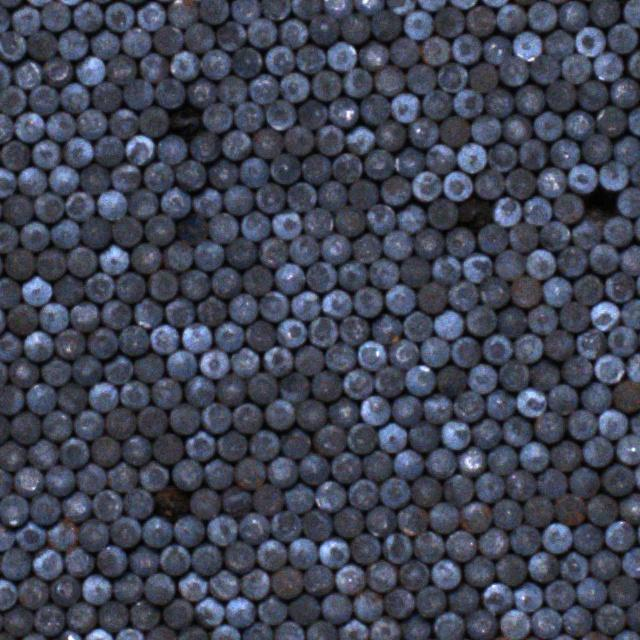tool: (388, 192, 436, 238), (337, 113, 384, 157), (387, 136, 430, 180), (170, 208, 218, 246), (602, 122, 640, 165), (613, 232, 640, 280), (494, 552, 528, 587), (351, 586, 384, 622), (126, 540, 159, 576), (44, 518, 80, 551), (142, 572, 176, 605), (312, 423, 346, 456), (299, 150, 332, 184), (446, 581, 479, 614), (365, 559, 398, 592), (540, 521, 573, 554), (243, 318, 276, 351), (527, 357, 560, 390), (574, 326, 607, 359), (128, 598, 162, 630), (190, 542, 222, 576), (314, 479, 346, 513), (266, 454, 298, 488), (18, 219, 50, 253), (350, 230, 382, 264), (92, 132, 124, 166), (0, 604, 33, 636), (34, 603, 66, 636), (18, 576, 50, 609), (270, 566, 303, 598), (302, 563, 334, 596), (94, 545, 126, 578), (223, 539, 255, 572), (445, 530, 478, 562), (396, 502, 429, 534), (28, 492, 61, 524), (220, 484, 253, 516), (346, 478, 379, 510), (441, 474, 474, 506), (497, 608, 530, 640), (460, 500, 493, 532), (585, 494, 618, 526), (535, 468, 568, 500), (346, 422, 379, 454), (8, 411, 41, 443), (294, 398, 326, 431), (326, 395, 359, 427), (183, 374, 216, 406), (278, 370, 310, 403), (393, 449, 425, 482), (550, 439, 582, 472), (598, 408, 630, 441), (434, 365, 467, 397), (560, 354, 593, 386), (604, 271, 636, 304), (1, 192, 33, 225), (12, 110, 45, 142), (78, 161, 110, 194), (535, 165, 567, 198), (501, 112, 534, 144), (372, 64, 405, 96), (478, 526, 509, 560), (578, 382, 612, 413), (54, 272, 85, 306), (79, 214, 110, 248), (595, 104, 626, 138), (32, 546, 62, 581), (224, 595, 256, 627), (80, 572, 112, 604), (332, 562, 364, 594), (254, 538, 286, 570), (286, 537, 318, 569), (14, 519, 46, 551), (236, 511, 268, 543), (300, 508, 332, 540), (334, 506, 366, 538), (606, 574, 638, 606), (463, 555, 495, 587), (557, 550, 589, 582), (249, 428, 281, 460), (136, 406, 168, 438), (150, 377, 182, 409), (245, 372, 277, 404), (310, 369, 342, 401), (359, 394, 391, 426), (454, 390, 486, 422), (594, 352, 626, 384), (449, 336, 481, 368), (464, 304, 496, 336), (589, 299, 621, 331), (225, 236, 257, 268), (334, 204, 366, 236), (317, 177, 349, 209), (251, 126, 283, 158), (56, 27, 88, 59), (230, 46, 262, 78), (415, 584, 446, 617), (413, 530, 444, 563), (366, 504, 397, 537), (60, 489, 91, 522), (74, 462, 105, 495), (329, 452, 362, 483), (213, 372, 244, 405), (164, 350, 197, 381), (370, 312, 403, 343), (384, 283, 417, 314), (3, 247, 36, 278), (413, 227, 446, 258), (123, 133, 156, 164), (25, 29, 58, 60), (9, 2, 40, 35), (151, 23, 182, 56), (182, 22, 215, 53), (102, 1, 135, 32), (287, 594, 321, 624), (384, 586, 414, 620), (235, 455, 265, 489), (56, 380, 86, 414), (385, 338, 419, 368), (496, 303, 526, 337), (0, 548, 31, 580), (321, 592, 352, 624), (399, 559, 431, 590), (430, 558, 462, 589), (350, 532, 381, 564), (268, 510, 300, 541), (120, 486, 151, 518), (188, 487, 220, 518), (410, 474, 441, 506), (560, 604, 592, 635), (512, 580, 544, 611), (572, 522, 603, 554), (553, 494, 585, 525), (568, 467, 599, 499), (601, 464, 633, 495), (171, 459, 203, 490), (120, 434, 152, 465), (184, 430, 216, 461), (104, 407, 135, 439), (168, 403, 200, 434), (201, 402, 232, 434), (39, 355, 71, 386), (102, 353, 133, 385), (22, 330, 54, 361), (99, 298, 131, 329), (257, 290, 288, 322), (426, 447, 458, 478), (470, 417, 502, 448), (534, 412, 566, 443), (496, 358, 528, 389), (480, 334, 512, 365), (608, 325, 640, 356), (432, 307, 463, 339), (557, 301, 589, 332), (21, 274, 53, 305), (305, 261, 337, 292), (338, 258, 369, 290), (160, 240, 192, 271), (127, 187, 159, 218), (348, 176, 379, 208), (109, 160, 141, 191), (142, 160, 173, 192), (264, 99, 296, 130), (422, 88, 453, 120), (507, 220, 538, 252), (601, 215, 633, 246), (486, 140, 518, 171), (545, 78, 576, 110), (58, 81, 90, 112), (405, 62, 436, 94), (105, 53, 137, 84), (481, 32, 512, 64), (591, 603, 624, 633), (204, 456, 234, 489), (215, 430, 248, 460), (23, 383, 56, 413), (338, 314, 371, 344), (402, 309, 432, 342), (509, 276, 542, 306), (439, 114, 472, 144), (355, 39, 388, 69), (402, 9, 435, 39), (513, 28, 543, 61), (78, 518, 107, 552), (256, 594, 287, 625), (206, 514, 237, 545), (465, 609, 496, 640), (529, 607, 560, 638), (510, 524, 541, 555), (292, 344, 323, 375), (355, 339, 386, 370), (54, 328, 85, 359), (85, 326, 116, 357), (5, 304, 36, 335), (391, 395, 422, 426), (543, 328, 574, 359), (258, 236, 289, 267), (289, 233, 320, 264), (493, 249, 524, 280), (513, 83, 544, 114), (27, 84, 58, 115), (74, 55, 105, 86), (464, 5, 495, 36), (495, 3, 526, 34), (50, 574, 80, 606), (66, 601, 96, 633), (176, 570, 208, 600), (382, 531, 412, 563), (252, 484, 284, 514), (283, 481, 313, 513), (588, 549, 620, 579), (504, 470, 536, 500), (299, 452, 329, 484), (280, 426, 312, 456), (40, 410, 72, 440), (87, 380, 117, 412), (344, 368, 374, 400), (117, 326, 149, 356), (180, 322, 212, 352), (210, 320, 242, 350), (68, 301, 100, 331), (319, 288, 351, 318), (519, 441, 549, 473), (584, 436, 614, 468), (547, 383, 577, 415), (415, 282, 447, 312), (542, 274, 572, 306), (147, 269, 177, 301), (272, 262, 304, 292), (368, 257, 400, 287), (64, 246, 96, 276), (110, 215, 142, 245), (208, 211, 238, 243), (206, 158, 238, 188), (156, 132, 186, 164), (220, 128, 252, 158), (327, 96, 359, 126), (390, 91, 420, 123), (526, 248, 556, 280), (538, 220, 570, 250), (569, 219, 601, 249), (552, 193, 584, 223), (90, 82, 122, 112), (185, 76, 215, 108), (436, 61, 468, 91), (198, 48, 230, 78), (326, 39, 356, 71), (591, 51, 623, 81), (557, 0, 589, 30), (161, 598, 194, 627), (108, 516, 141, 545), (192, 239, 225, 268), (0, 492, 28, 526), (193, 596, 223, 627), (113, 572, 143, 603), (62, 546, 93, 576), (319, 537, 349, 568), (140, 516, 171, 546), (429, 502, 460, 532), (380, 476, 410, 507), (544, 579, 575, 609), (576, 577, 607, 607), (522, 496, 553, 526), (106, 462, 137, 492), (138, 460, 168, 491), (59, 437, 89, 468), (90, 435, 120, 466), (152, 432, 182, 463), (72, 409, 103, 439), (264, 399, 294, 430), (118, 380, 149, 410), (72, 354, 102, 385), (132, 351, 163, 381), (307, 316, 338, 346), (37, 302, 68, 332), (164, 296, 195, 326), (196, 294, 226, 325), (227, 292, 257, 323), (289, 290, 320, 320), (352, 286, 383, 316), (487, 444, 518, 474), (502, 415, 533, 445), (567, 409, 598, 439), (527, 303, 557, 334), (572, 273, 602, 304), (179, 269, 210, 299), (211, 266, 241, 297), (462, 251, 492, 282), (36, 248, 66, 279), (382, 230, 413, 260), (271, 208, 301, 239), (302, 206, 333, 236), (160, 187, 190, 218), (255, 181, 285, 212), (411, 171, 442, 201), (48, 164, 79, 194), (239, 155, 269, 186), (332, 152, 363, 182), (426, 143, 456, 174), (374, 119, 405, 149), (45, 110, 75, 141), (138, 105, 168, 136), (233, 100, 263, 131), (557, 246, 587, 277), (490, 196, 520, 227), (522, 194, 552, 225), (563, 109, 593, 140), (483, 87, 513, 118), (577, 80, 608, 110), (40, 0, 70, 31), (263, 45, 294, 75), (388, 36, 419, 66), (216, 21, 247, 51), (371, 10, 402, 40), (434, 5, 464, 36), (71, 1, 101, 32), (433, 611, 465, 640), (157, 546, 189, 575), (172, 516, 204, 545), (92, 488, 121, 520), (604, 521, 636, 550), (26, 439, 58, 468), (7, 357, 39, 386), (324, 342, 356, 371), (363, 450, 392, 482), (14, 167, 46, 196), (400, 256, 432, 285), (61, 137, 93, 166), (408, 117, 440, 146), (200, 102, 232, 131), (589, 242, 618, 274), (608, 76, 640, 105), (122, 79, 154, 108), (246, 74, 278, 103), (466, 62, 498, 91), (98, 600, 128, 630), (482, 582, 512, 612), (528, 551, 558, 581), (492, 498, 522, 528), (44, 465, 74, 495), (199, 348, 229, 378), (262, 345, 292, 375), (149, 324, 179, 354), (132, 297, 162, 327), (409, 422, 439, 452), (440, 420, 470, 450), (516, 387, 546, 417), (374, 366, 404, 396), (404, 364, 434, 394), (420, 336, 450, 366), (115, 272, 145, 302), (242, 264, 272, 294), (446, 226, 476, 256), (34, 192, 64, 222), (443, 170, 473, 200), (270, 153, 300, 183), (457, 142, 487, 172), (31, 138, 61, 168), (314, 124, 344, 154), (76, 108, 106, 138), (297, 99, 327, 129), (453, 88, 483, 118), (548, 138, 578, 168), (280, 72, 310, 102), (139, 52, 169, 82), (295, 44, 325, 74), (89, 28, 119, 58), (246, 18, 276, 48), (498, 55, 528, 85), (561, 53, 591, 83), (607, 22, 637, 52), (527, 1, 557, 31), (13, 467, 42, 498), (233, 402, 262, 433), (230, 345, 259, 376), (423, 392, 452, 423), (486, 388, 515, 419), (431, 254, 460, 285), (320, 234, 351, 263), (427, 198, 458, 227), (286, 181, 317, 210), (380, 175, 411, 204), (477, 223, 508, 252), (519, 138, 548, 169), (471, 114, 502, 143), (154, 78, 183, 109), (311, 69, 340, 100), (341, 67, 372, 96), (170, 49, 199, 80), (119, 27, 150, 56), (529, 54, 560, 83), (575, 26, 606, 55), (240, 567, 268, 599), (612, 380, 640, 412), (514, 332, 542, 364), (97, 244, 129, 272), (174, 160, 206, 188), (215, 76, 247, 104), (208, 569, 238, 598), (467, 363, 497, 392), (448, 281, 478, 310), (0, 139, 30, 168), (85, 272, 114, 302), (130, 242, 159, 272), (50, 218, 80, 247), (240, 210, 270, 239), (366, 203, 395, 233), (191, 186, 221, 215), (224, 184, 254, 213), (364, 149, 394, 178), (283, 125, 313, 154), (108, 108, 137, 138), (361, 93, 390, 123), (475, 168, 504, 198), (598, 160, 628, 189), (581, 133, 610, 163), (420, 34, 449, 64), (401, 612, 432, 640), (380, 422, 408, 453), (41, 56, 72, 84), (449, 34, 480, 62), (277, 18, 308, 46), (310, 13, 338, 44), (0, 438, 26, 471), (368, 615, 402, 640), (189, 131, 218, 160), (505, 168, 534, 197), (276, 318, 306, 346), (65, 192, 95, 220), (567, 164, 597, 192), (534, 110, 562, 140), (12, 58, 40, 88), (340, 14, 370, 42), (136, 2, 166, 30), (144, 216, 175, 243), (165, 0, 196, 27), (615, 185, 640, 218), (0, 29, 25, 62), (475, 472, 503, 501), (480, 277, 508, 306), (97, 190, 126, 218), (544, 28, 573, 56), (458, 446, 486, 474), (0, 85, 27, 114), (589, 0, 619, 26), (615, 434, 640, 464), (196, 0, 227, 24), (228, 0, 260, 23), (338, 617, 368, 640), (619, 490, 640, 522), (0, 384, 23, 413), (305, 620, 338, 640), (0, 276, 22, 306), (621, 296, 640, 330), (620, 546, 640, 578), (274, 619, 304, 640), (0, 330, 21, 360), (260, 0, 290, 21), (242, 621, 274, 640), (290, 0, 322, 19), (175, 623, 207, 640), (208, 624, 242, 640), (0, 220, 17, 252), (0, 520, 16, 551), (0, 579, 17, 608), (144, 625, 176, 640), (624, 601, 640, 631), (625, 352, 640, 384), (322, 0, 352, 16), (112, 626, 146, 640), (0, 166, 15, 196), (623, 0, 640, 26), (353, 0, 384, 14), (386, 0, 415, 14), (0, 468, 13, 499), (0, 112, 12, 142), (628, 104, 640, 134), (0, 58, 11, 88)
tool_b: (448, 183, 502, 235), (154, 485, 188, 520), (170, 106, 202, 136)
void: (573, 176, 627, 228)
